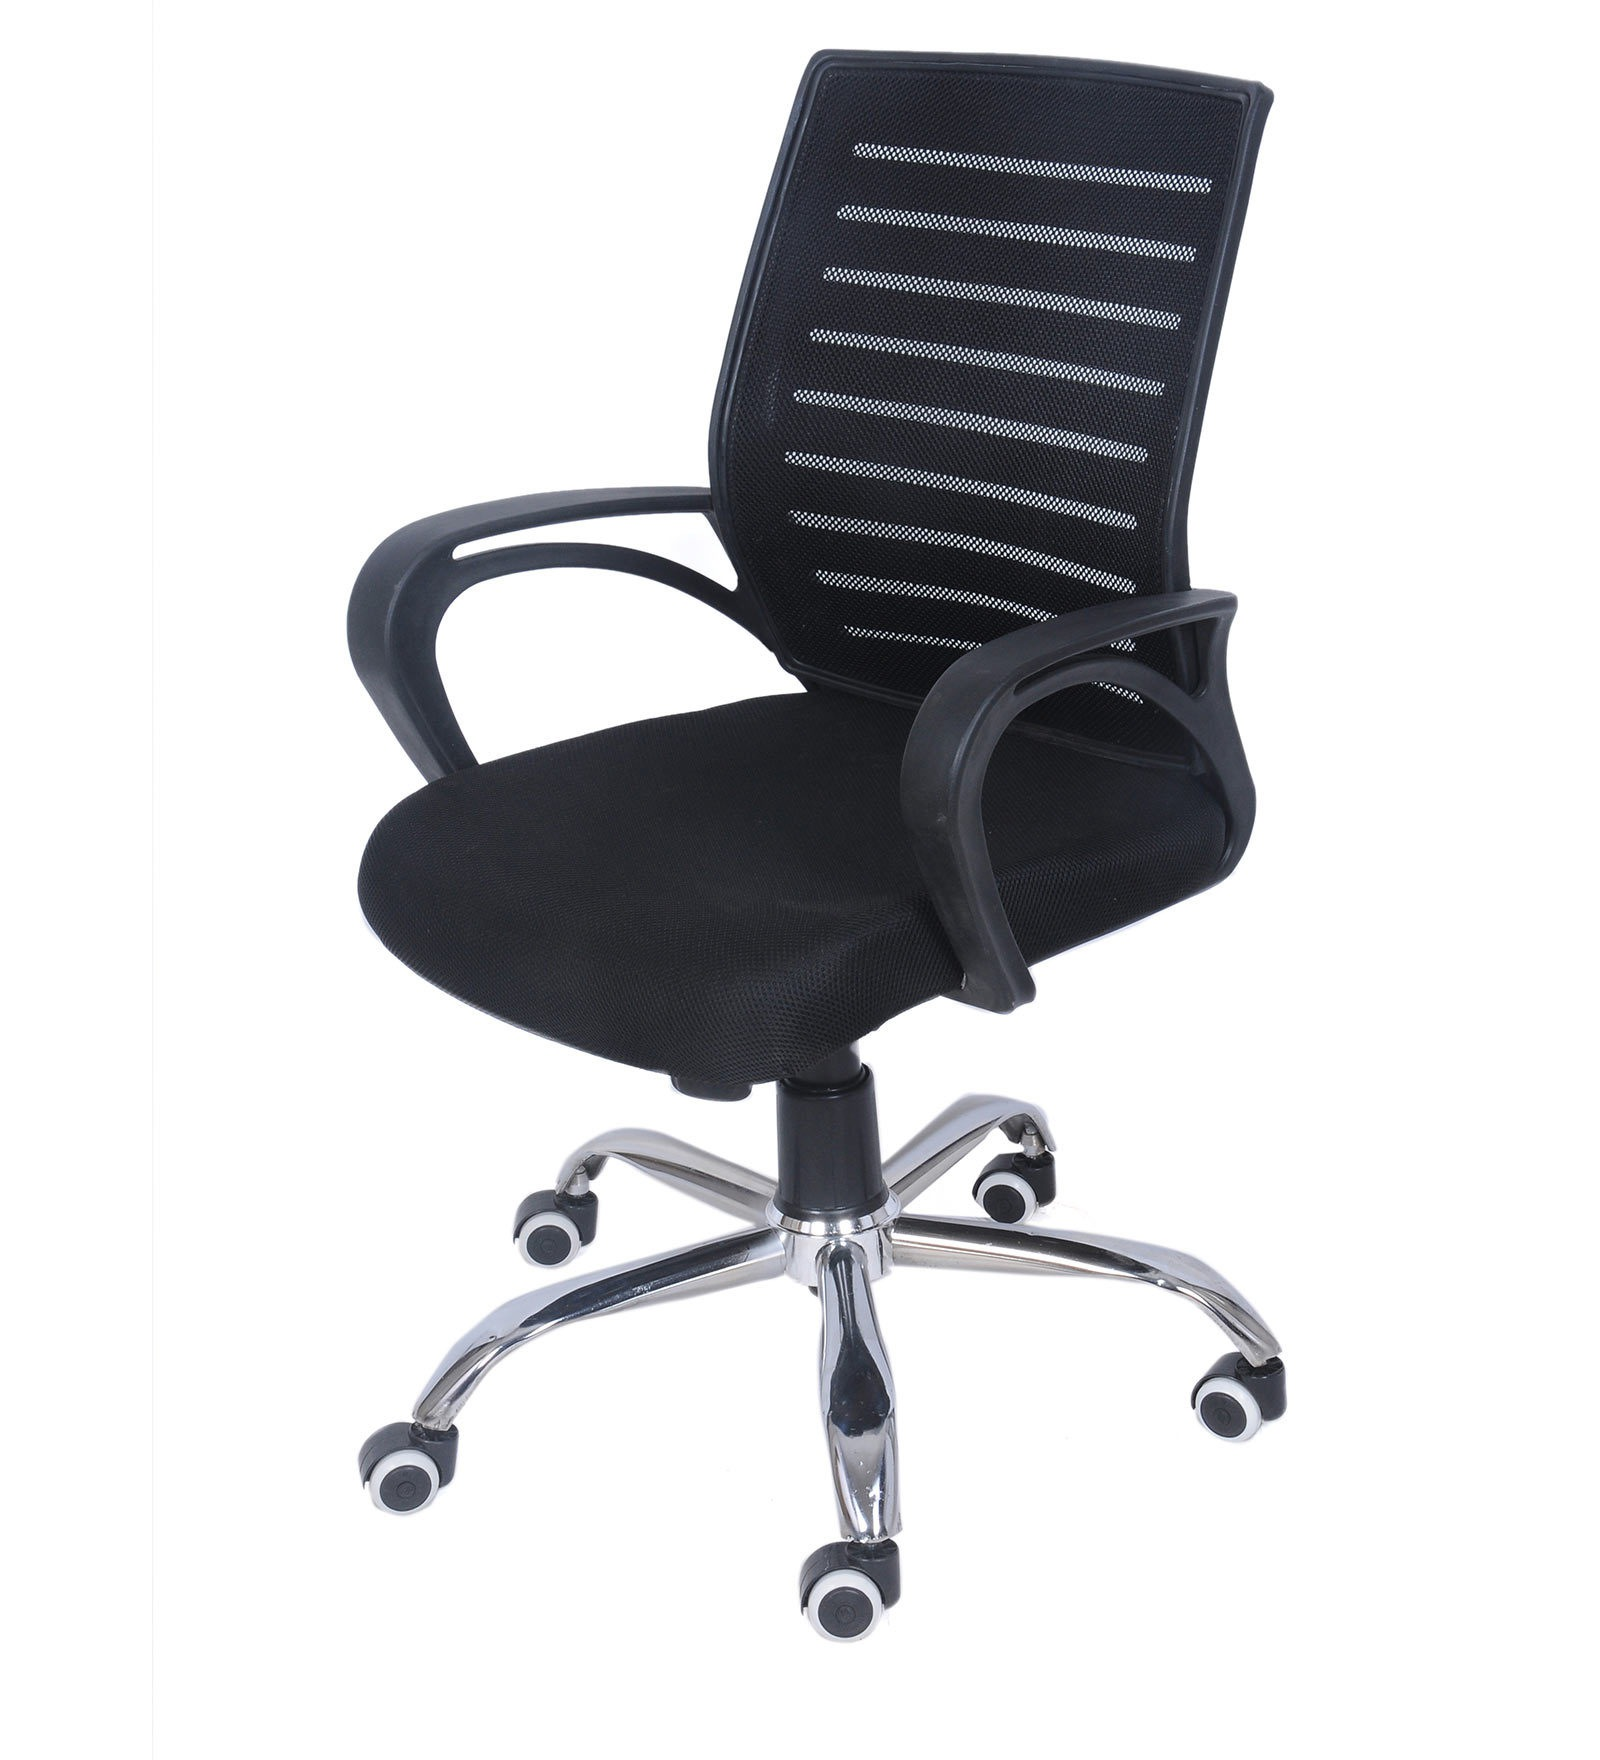Classical Medium Back Ergonomic Chair by Furniease: (297, 28, 1333, 1657)
